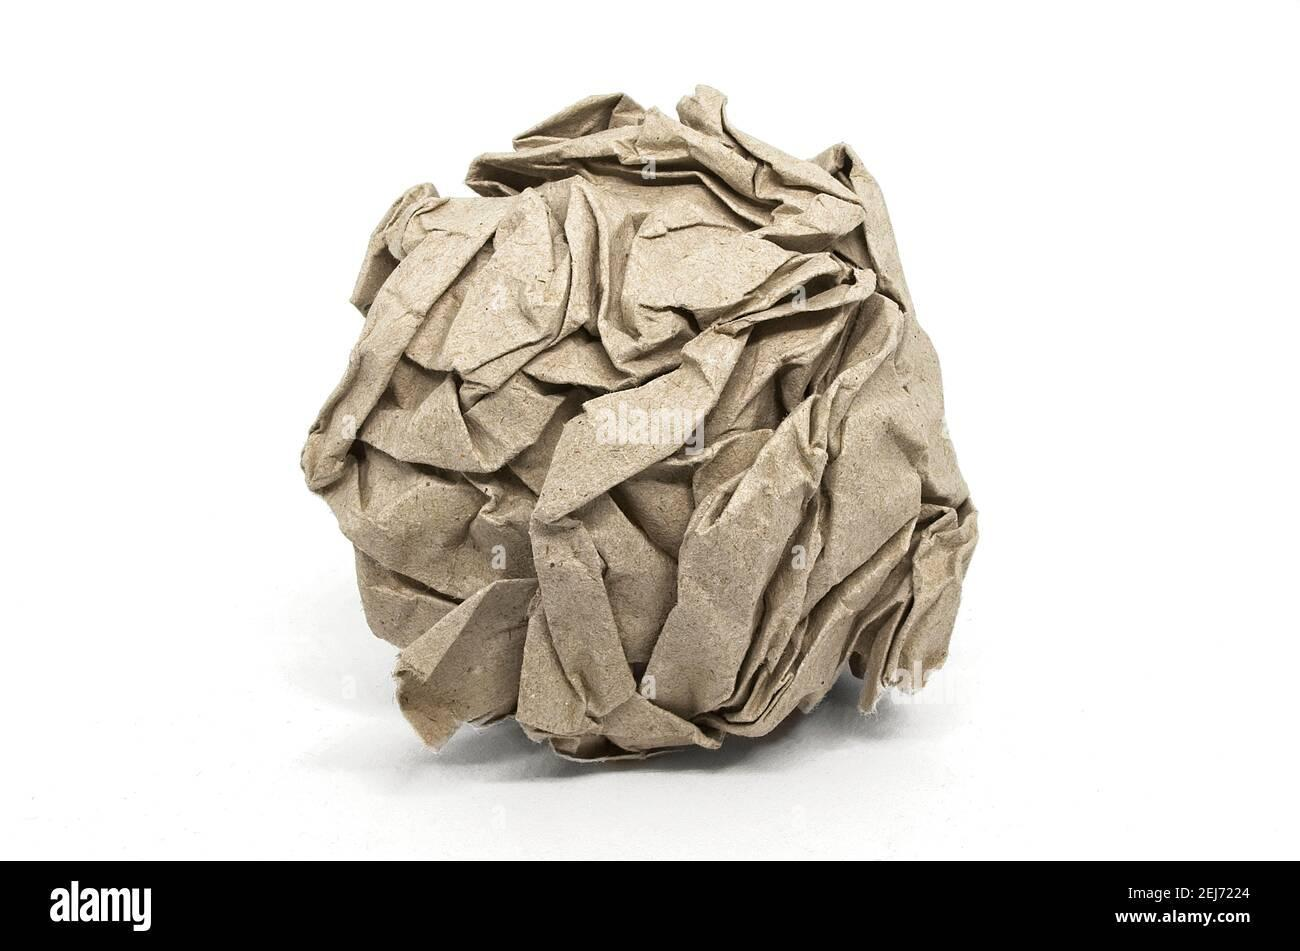Paper: (297, 84, 981, 762)
